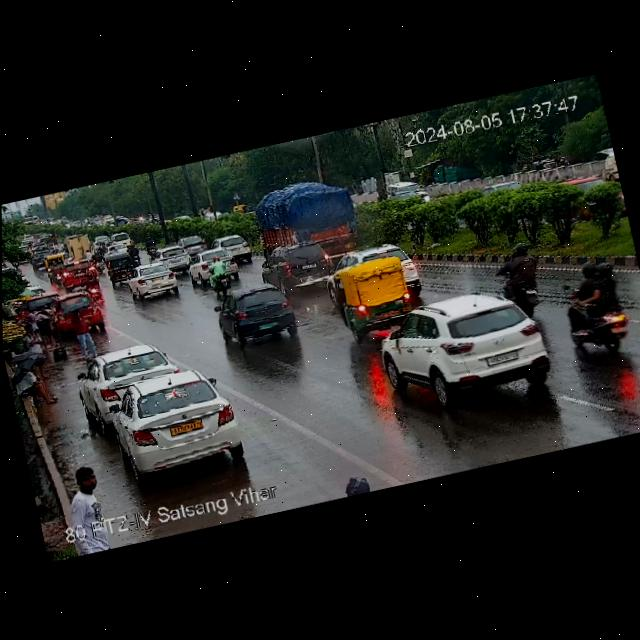bus: (597, 142, 621, 192)
car: (373, 278, 561, 414), (104, 360, 251, 482), (327, 250, 418, 342), (77, 338, 179, 418), (210, 278, 303, 353), (255, 237, 329, 297), (43, 286, 109, 341), (182, 239, 241, 292), (125, 257, 183, 299), (204, 231, 252, 266), (103, 247, 138, 284), (58, 256, 98, 288), (154, 243, 194, 272), (62, 230, 97, 261), (43, 250, 77, 280), (176, 232, 210, 255), (154, 244, 190, 262), (30, 247, 58, 270), (109, 230, 135, 250), (44, 251, 70, 270)
motorcycle: (554, 251, 635, 328), (560, 286, 637, 356), (495, 241, 548, 298), (202, 254, 238, 298), (82, 267, 104, 303), (142, 236, 160, 258)
person: (59, 291, 109, 364), (58, 463, 111, 525), (8, 357, 62, 411), (21, 312, 56, 385)
truck: (248, 170, 372, 289)
